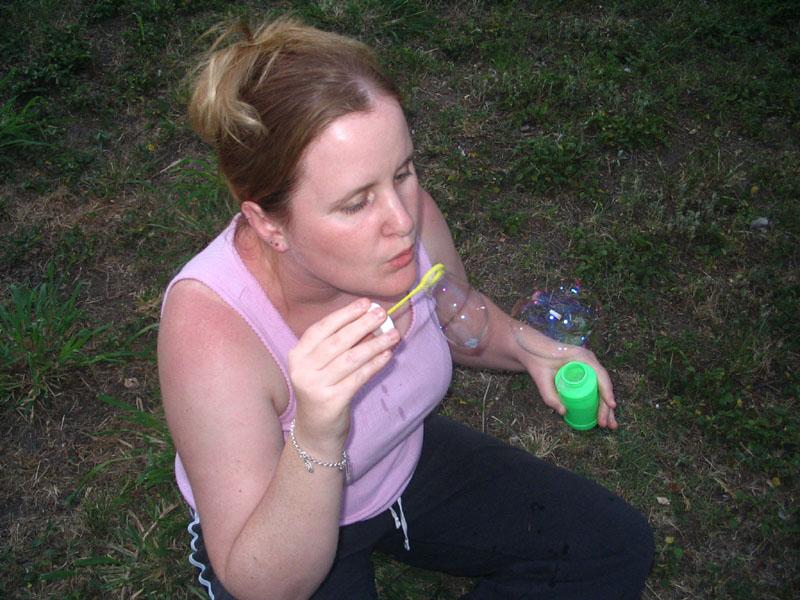person: (153, 22, 661, 596)
